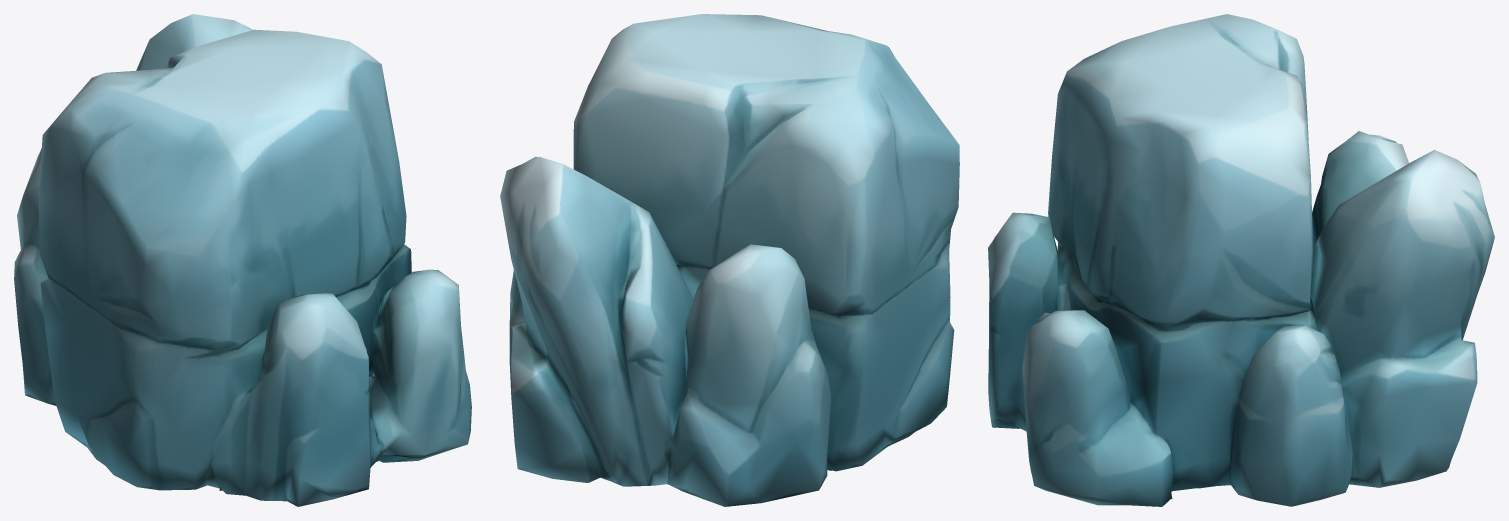
The model's file is led-kristally.glb.
3 renders of one model, left to right at view 1: azimuth 30°, elevation 25°; view 2: azimuth 150°, elevation 25°; view 3: azimuth 270°, elevation 25°, orthographic. The views are drawn at different scales.
Visible parts, largest first — view 1: geometry_0; view 2: geometry_0; view 3: geometry_0.
Boxes of the visible parts, <box> form: geometry_0: <box>14,14,471,506</box>; geometry_0: <box>500,14,959,506</box>; geometry_0: <box>988,14,1494,506</box>.
Bounding box in the file's own units: 0.7836 × 0.7705 × 0.9993.
Materials: 1 (1 with a texture image).
